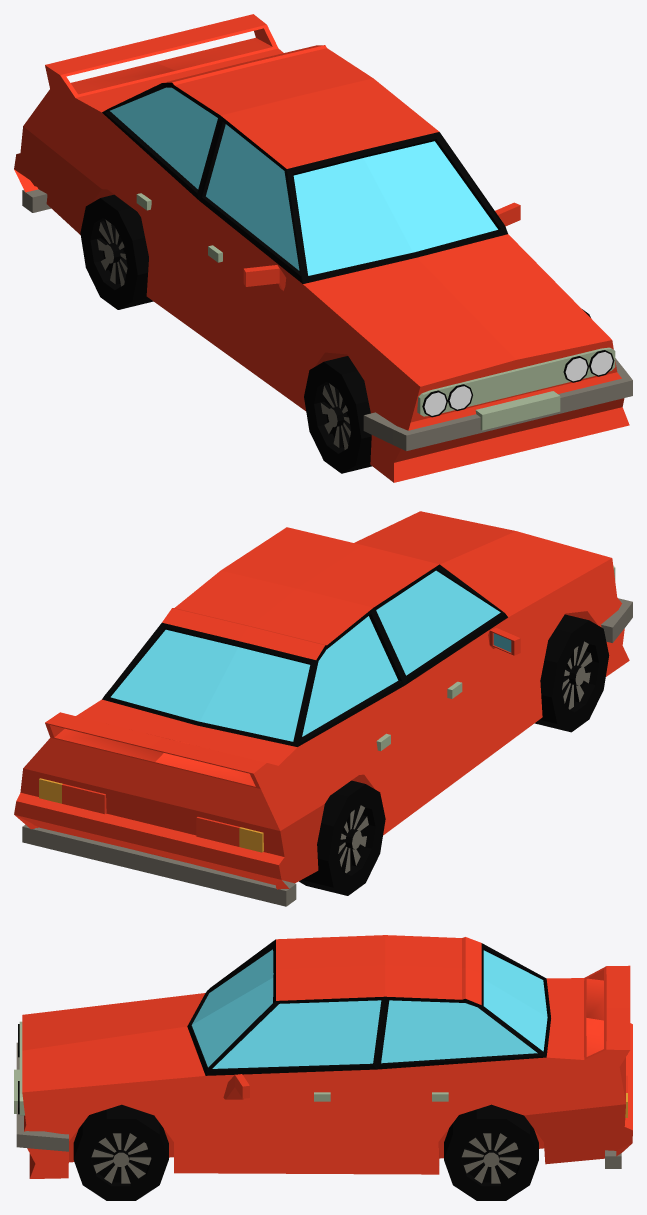
File: CarE30.fbx
3 renders of one model, top to bottom at view 1: azimuth 30°, elevation 25°; view 2: azimuth 150°, elevation 25°; view 3: azimuth 270°, elevation 25°, orthographic. The views are drawn at different scales.
Parts seen in each view (by area): view 1: E30; view 2: E30; view 3: E30.
Boxes of the visible parts, box(x1,y1,x2,y2) form: E30: box(14, 14, 632, 482); E30: box(14, 511, 632, 906); E30: box(14, 935, 632, 1200).
Bounding box in the file's own units: 233 × 181 × 549.
